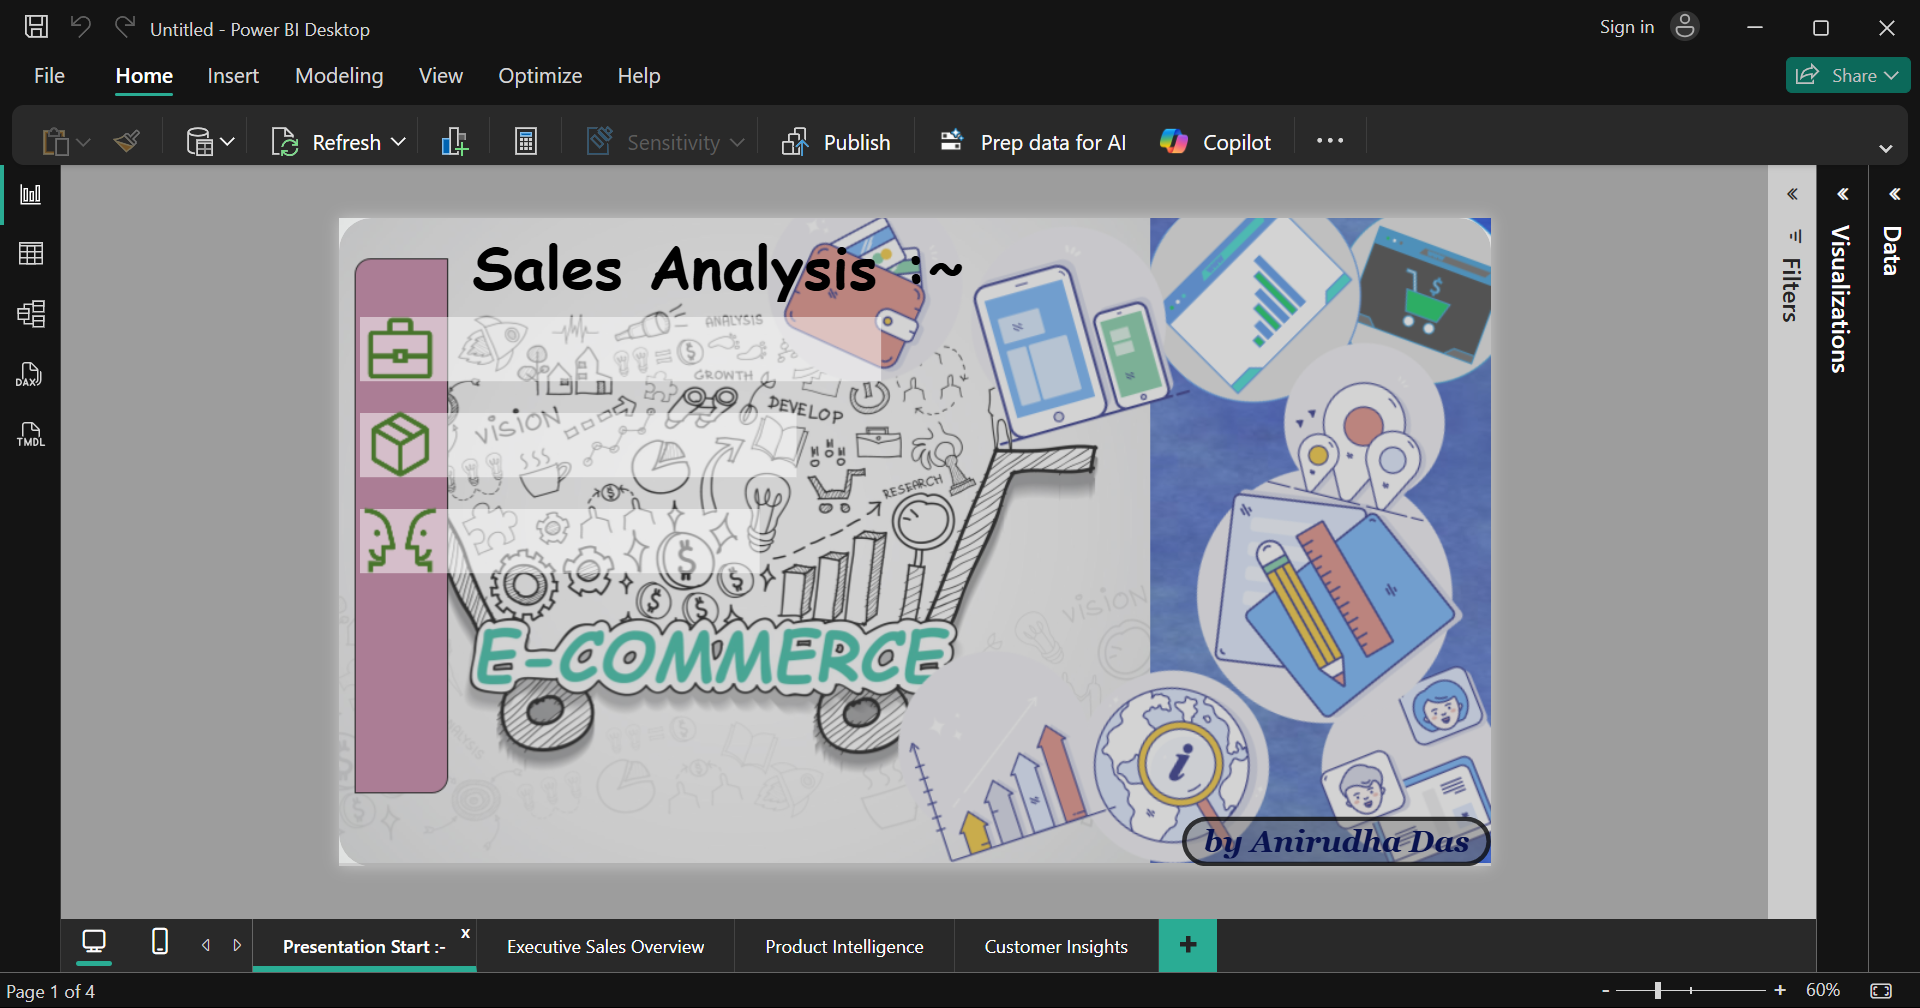

What the dashboard file says about the page in this screenshot:
{"tool":"powerbi","page":{"name":"Presentation Start :-","canvas":[1280,720],"ordinal":0},"visuals":[{"type":"shape","box":[0,0,1280.1,720.6],"z":1250},{"type":"shape","box":[131.8,0,579,100.8],"z":1750,"group":"g1"},{"type":"shape","box":[936.9,665.3,343.2,55.3],"z":1937,"group":"g1"},{"type":"actionButton","box":[22.8,216.3,485,71.6],"z":2000,"group":"g1"},{"type":"actionButton","box":[22.8,323.7,444,71.6],"z":3000,"group":"g1"},{"type":"actionButton","box":[22.8,110.6,579,71.6],"z":4000,"group":"g1"},{"type":"actionButton","box":[22.8,313.9,89.5,89.5],"z":4250,"group":"g1"},{"type":"actionButton","box":[22.8,207.4,89.5,89.5],"z":4500,"group":"g1"},{"type":"actionButton","box":[22.8,100.8,89.5,89.5],"z":5000,"group":"g1"},{"type":"group","id":"g1","title":"Group 1","box":[22.8,0,1257.3,720.6],"z":5001}]}

Visuals, with their boxes on the page's 1280x720 design canvas (x1, y1, x2, y2). These are canvas units, not pixel positions in the 1920x1008 screenshot, which may show the page scaled, cropped or inside an application window:
shape: (left=0, top=0, right=1280, bottom=721)
shape: (left=132, top=0, right=711, bottom=101)
shape: (left=937, top=665, right=1280, bottom=721)
actionButton: (left=23, top=216, right=508, bottom=288)
actionButton: (left=23, top=324, right=467, bottom=395)
actionButton: (left=23, top=111, right=602, bottom=182)
actionButton: (left=23, top=314, right=112, bottom=403)
actionButton: (left=23, top=207, right=112, bottom=297)
actionButton: (left=23, top=101, right=112, bottom=190)
"Group 1" group: (left=23, top=0, right=1280, bottom=721)
